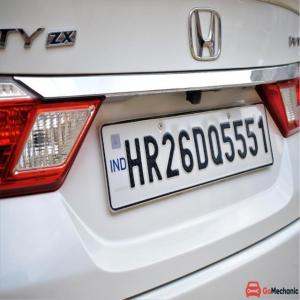Plate: (100, 104, 274, 211)
